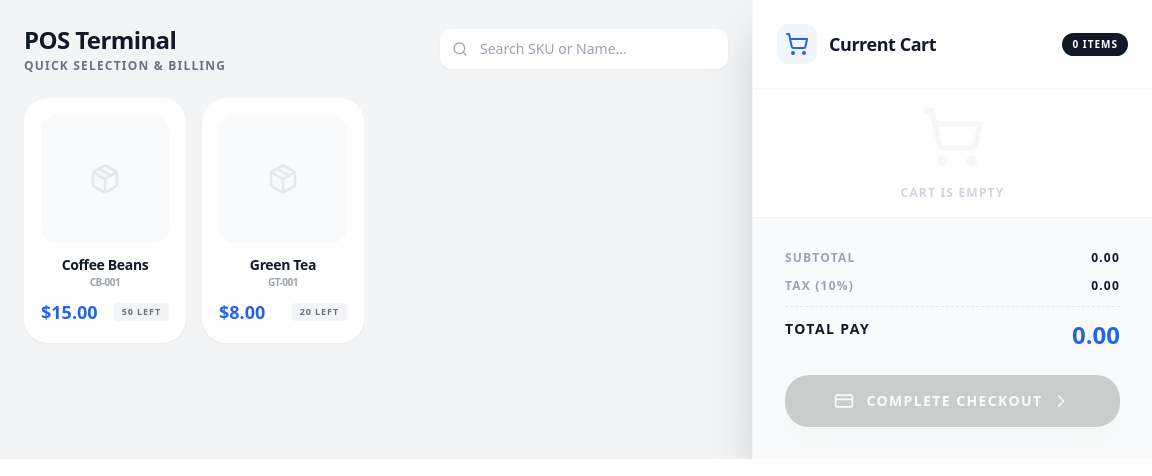
it: POSPage — Story 10.2: POS Interface UI › filters products by search query
The image size is (1152, 476).
Check: the heading "Coffee Beans" is shown, box [62,255,148,274]
In the field with placeholder "Search SKU or Name...": (584, 49) [440,29,728,69], type "green"
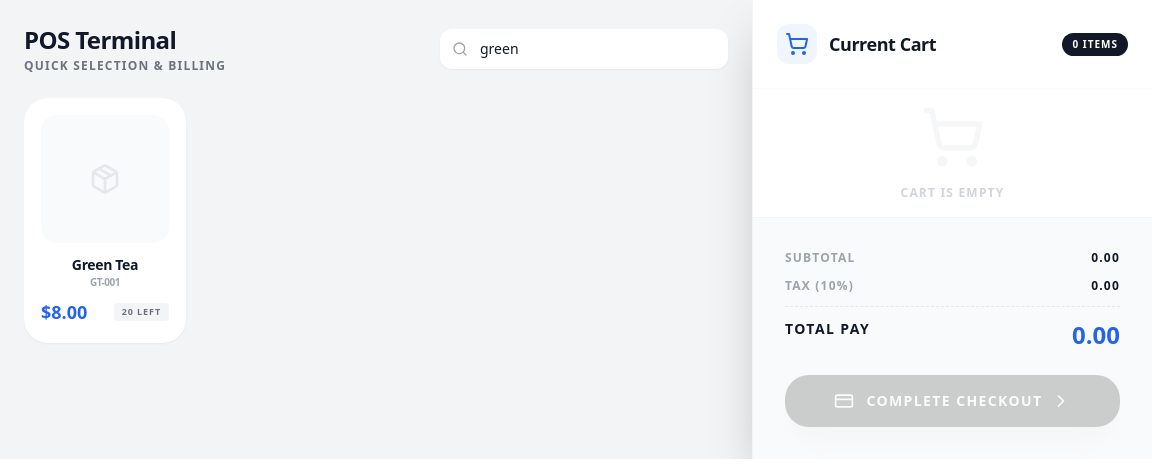
Check: the heading "Green Tea" is shown, box [72,255,138,274]
Check: the heading "Coffee Beans" is gone
